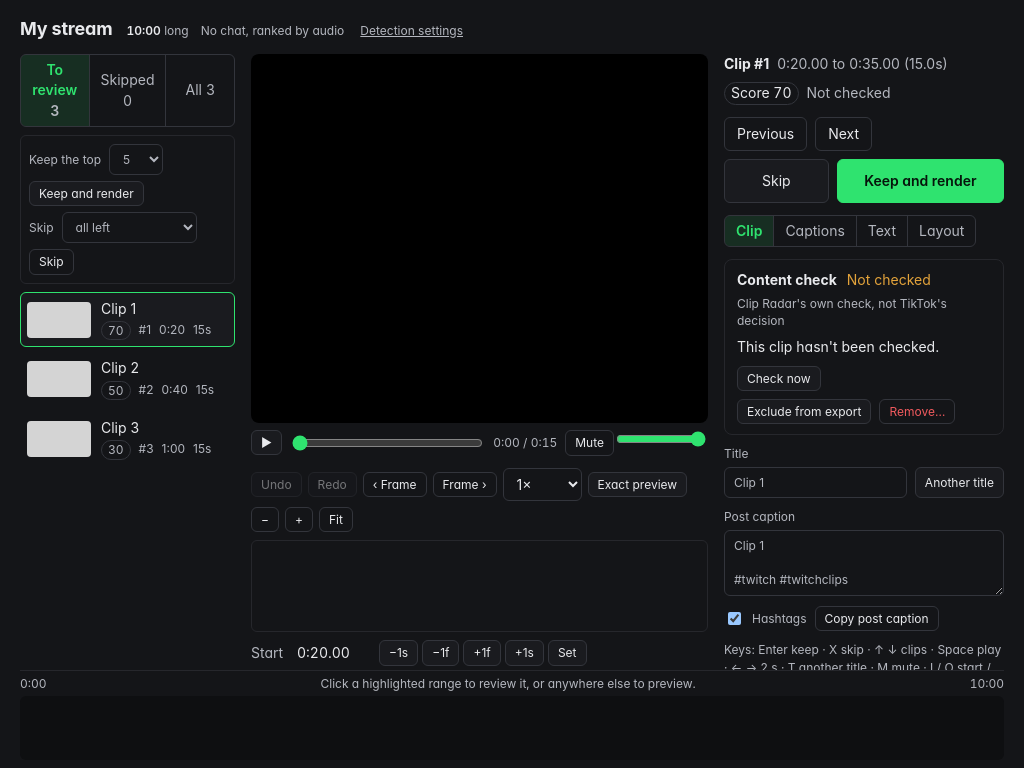
Test case: Review › Exact preview renders a few seconds like the export and shows them until closed
Click the button with test id "rv-exact-btn".
click(637, 484)  # box left=588, top=472, right=687, bottom=497
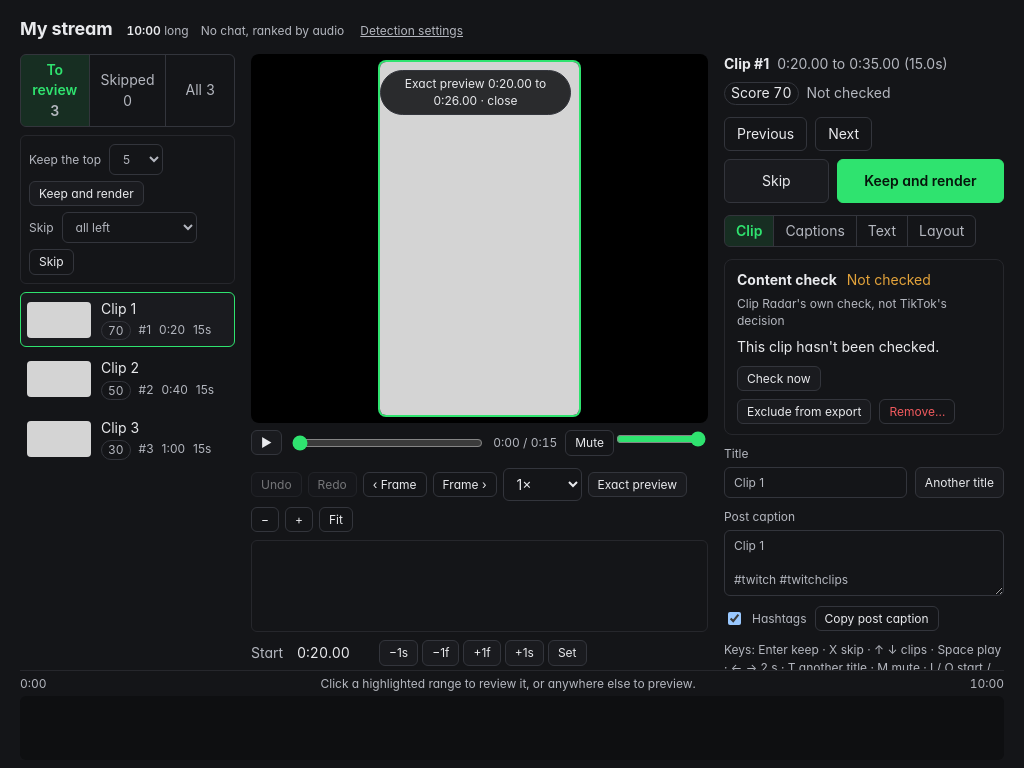
Press Escape
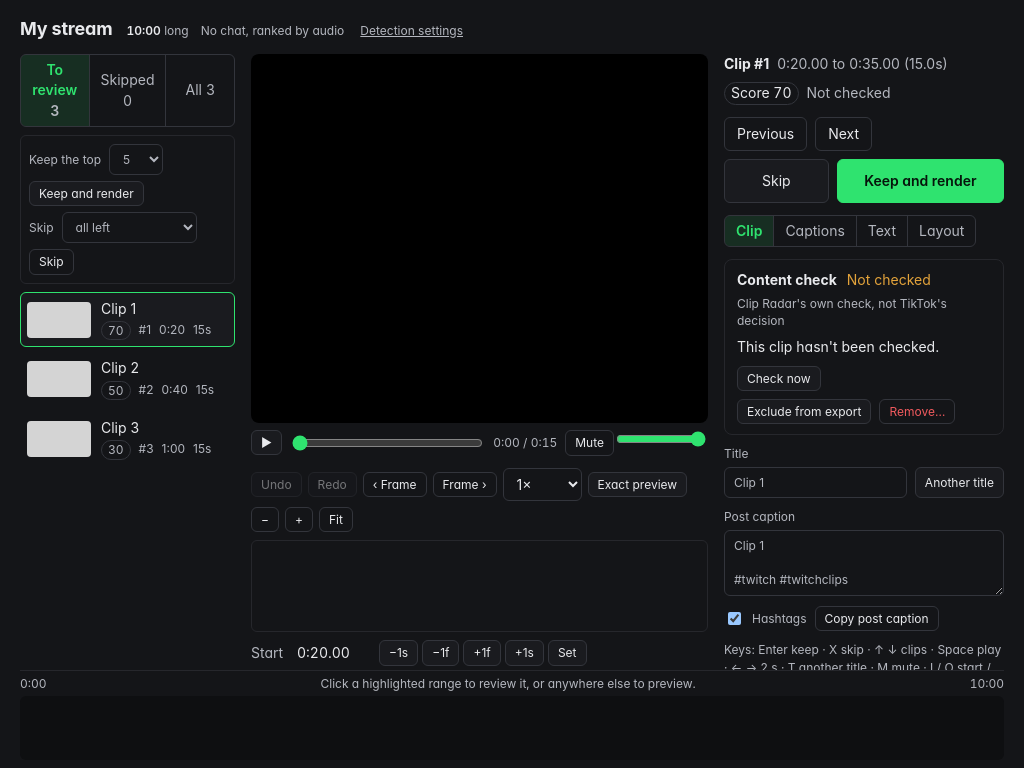
Expected: the element with test id "rv-exact" is gone
